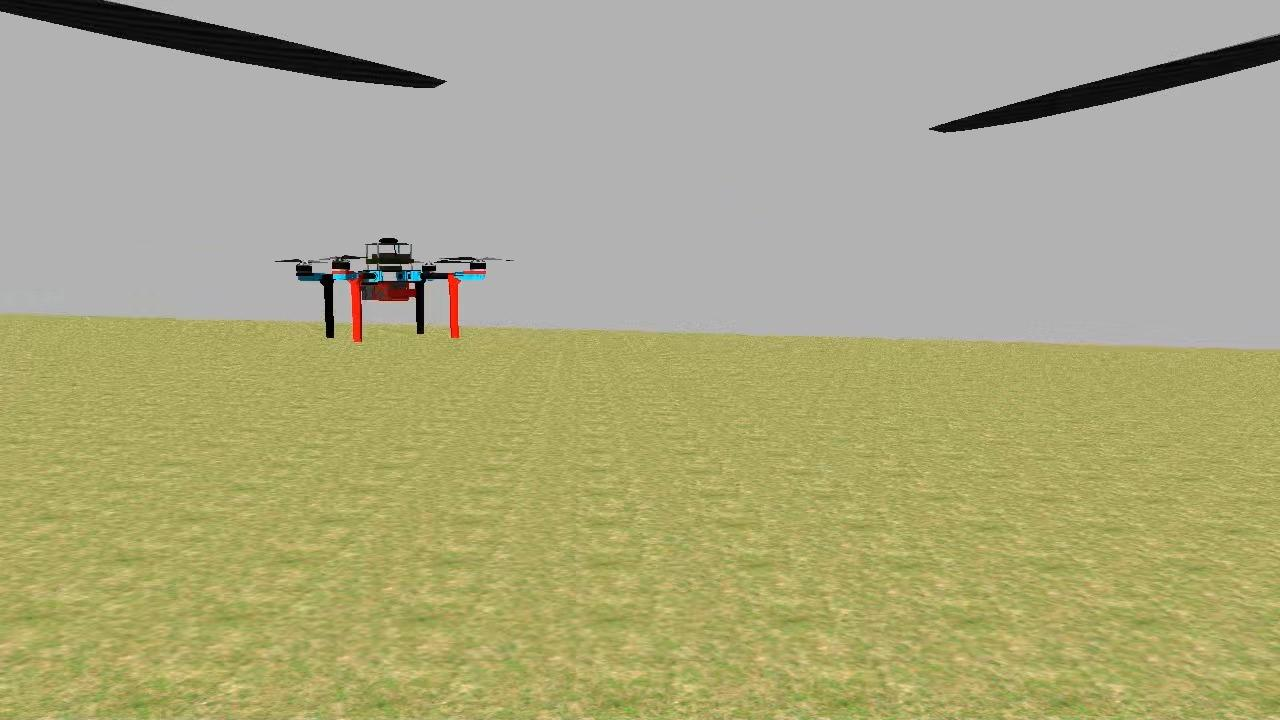UAV: (287, 228, 494, 353)
